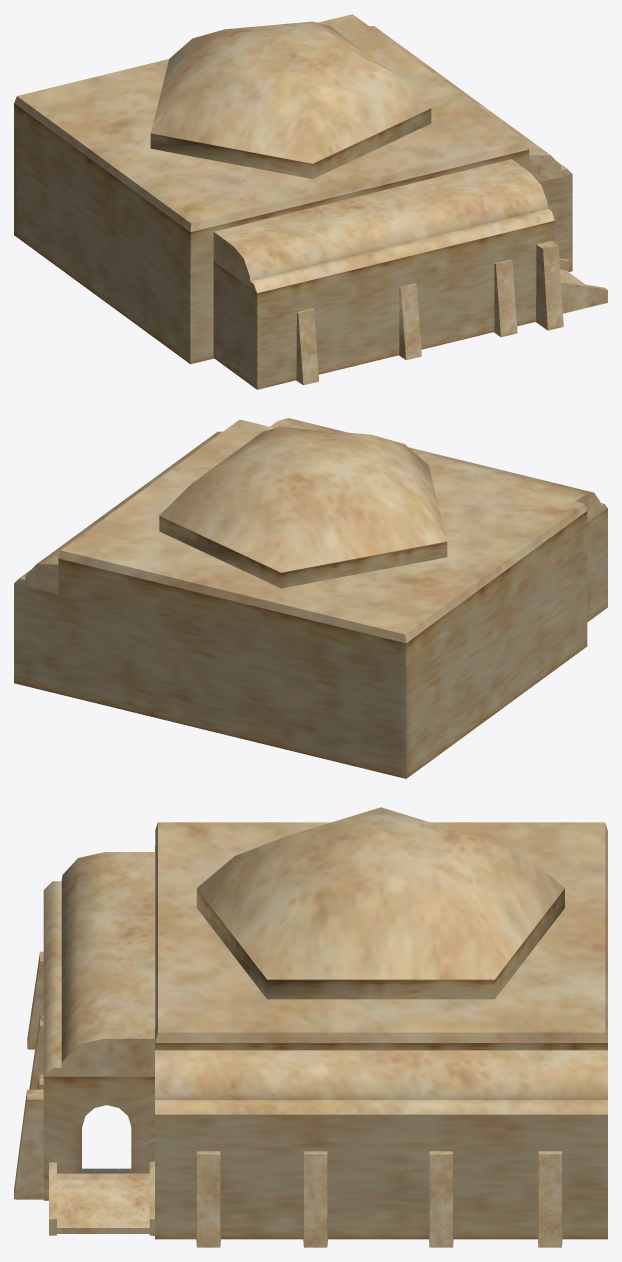
File: thm_tato_house_m_s01_fp1_r0_mesh_l4.fbx
The picture shows the model from 3 angles, top to bottom: view 1: azimuth 30°, elevation 25°; view 2: azimuth 150°, elevation 25°; view 3: azimuth 270°, elevation 25°; orthographic projection. The views are drawn at different scales.
Parts seen in each view (by area): view 1: mesh_node; view 2: mesh_node; view 3: mesh_node.
Part boxes in pixels (bbox=[...]): mesh_node: bbox=[14, 14, 607, 389]; mesh_node: bbox=[14, 418, 607, 778]; mesh_node: bbox=[14, 807, 607, 1247].
Size of the model in its own units: 23.75 by 12.49 by 24.07.
